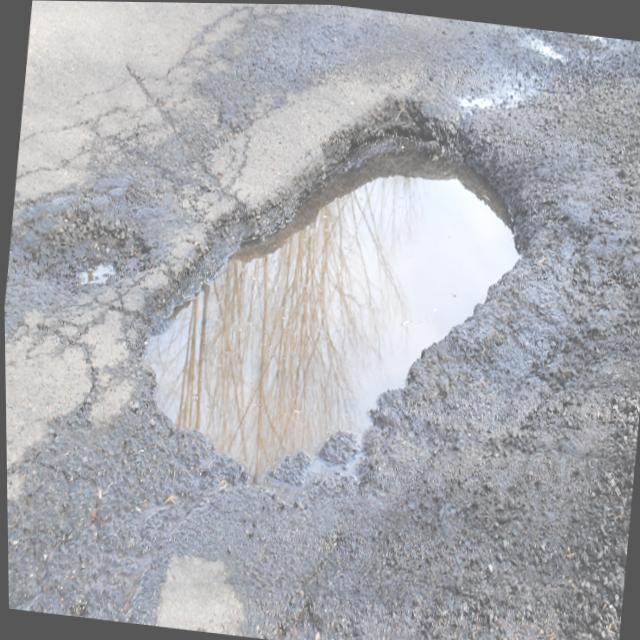Pothole: (138, 95, 533, 494), (22, 207, 152, 291)
